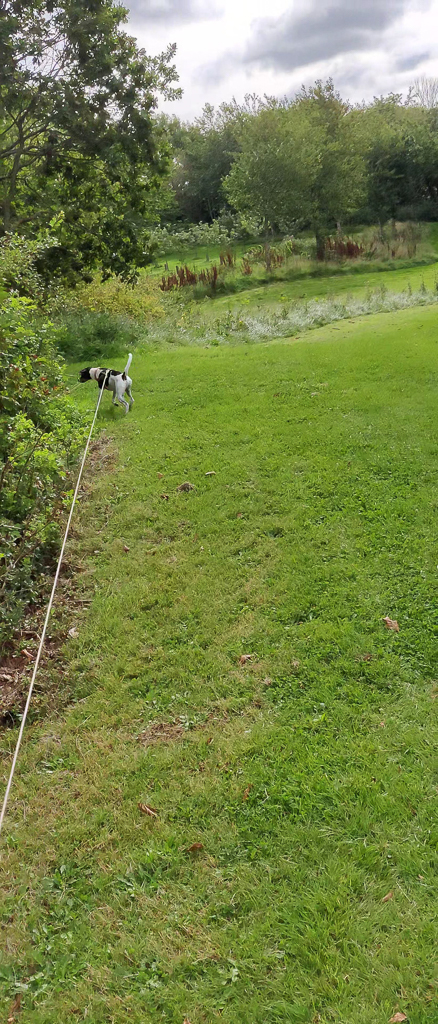Dog: (69, 346, 141, 421)
